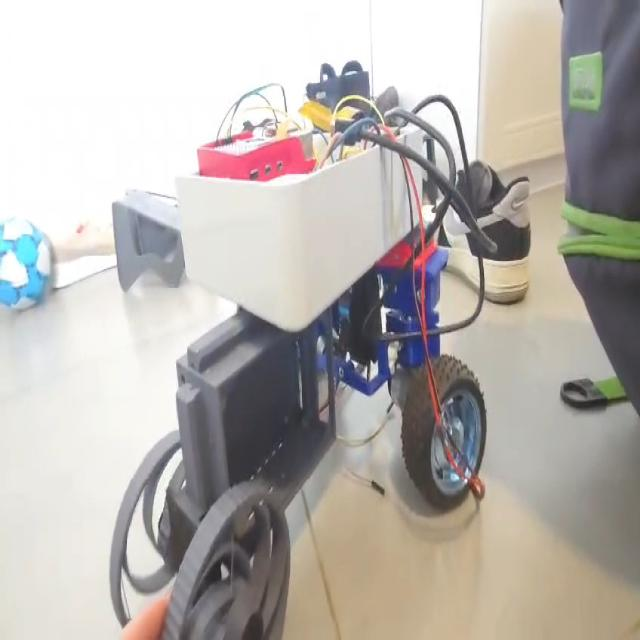Robot: (107, 71, 489, 639)
